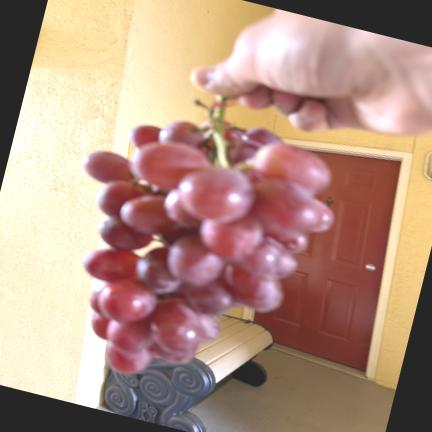grape_cluster: (82, 96, 333, 373)
